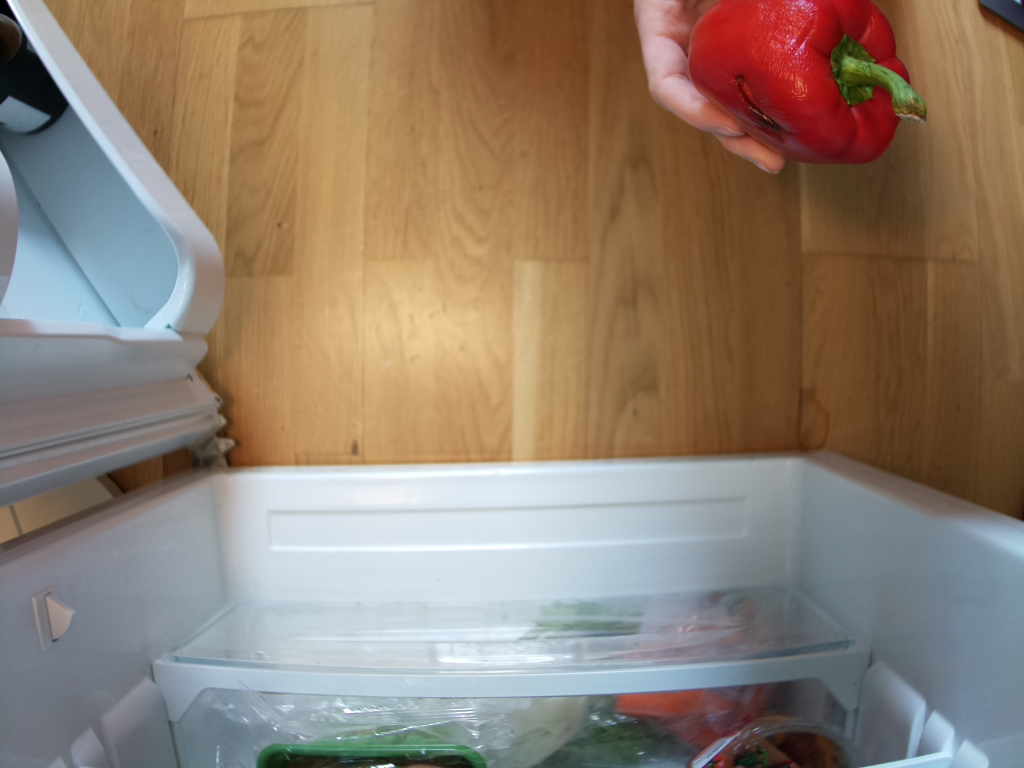pepper-bad: (678, 1, 939, 181)
